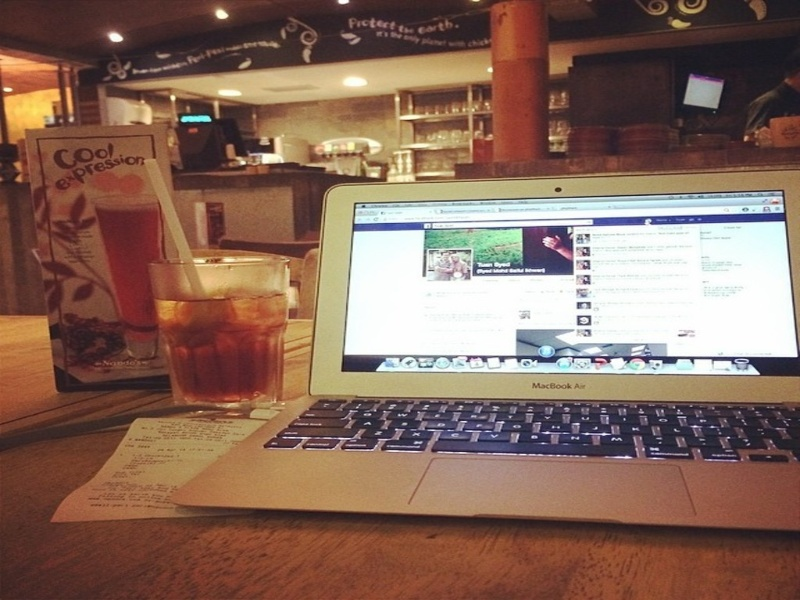laptop: (255, 169, 798, 538)
